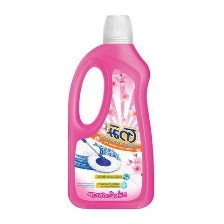cleaning_solution: (66, 12, 153, 211)
